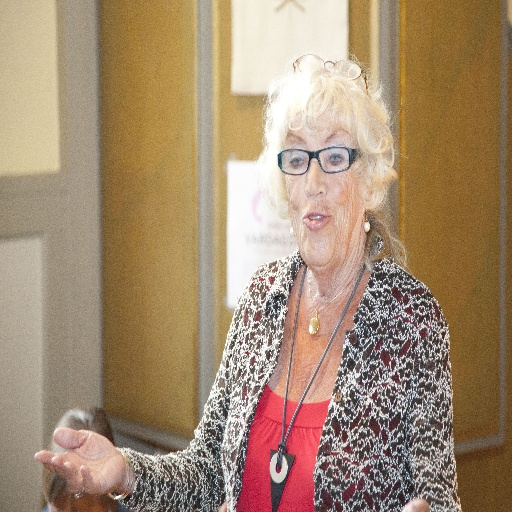hand: (33, 425, 126, 497), (401, 495, 430, 511)
